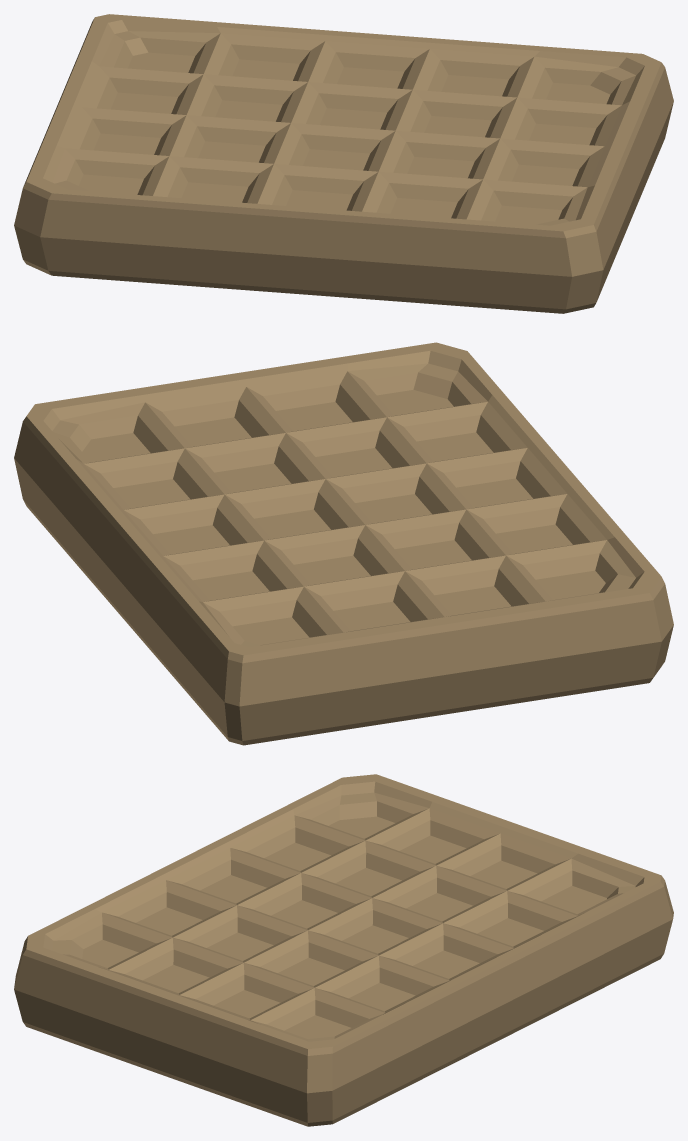
Rendered from Waffle.glb.
3 renders of one model, top to bottom at view 1: azimuth 30°, elevation 25°; view 2: azimuth 150°, elevation 25°; view 3: azimuth 270°, elevation 25°, orthographic. The views are drawn at different scales.
Visible parts, largest first — view 1: Waffle.001; view 2: Waffle.001; view 3: Waffle.001.
Part boxes in pixels (x1,y1,x2,y2): Waffle.001: [14, 14, 673, 313]; Waffle.001: [14, 342, 673, 745]; Waffle.001: [14, 774, 673, 1126].
Bounding box in the file's own units: 1.1 × 0.1393 × 1.07.
